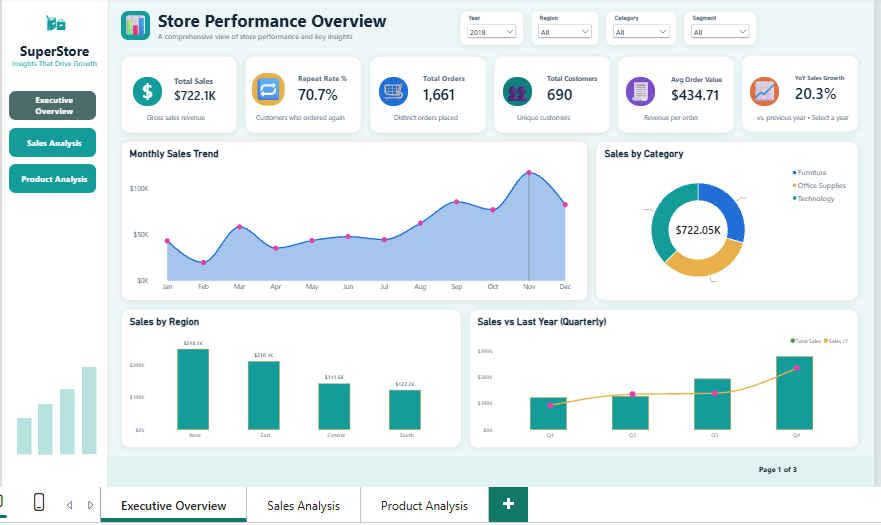

The dashboard page shown, as its layout file describes it:
{"tool":"powerbi","page":{"name":"Executive Overview","canvas":[1920,1080],"ordinal":0},"visuals":[{"type":"textbox","box":[0,0,232,1080],"z":0},{"type":"textbox","box":[80,16,80,80],"z":1000},{"type":"textbox","box":[0,96,232,40],"z":2000},{"type":"textbox","box":[0,134,232,26],"z":3000},{"type":"actionButton","box":[16,208,192,64],"z":4000},{"type":"actionButton","box":[16,288,192,64],"z":5000},{"type":"actionButton","box":[16,368,192,64],"z":6000},{"type":"shape","box":[32,928,32,80],"z":7000},{"type":"shape","box":[80,896,32,112],"z":8000},{"type":"shape","box":[128,864,32,144],"z":9000},{"type":"shape","box":[176,816,32,192],"z":10000},{"type":"textbox","box":[262,30,64,64],"z":11000},{"type":"textbox","box":[344,26,700,50],"z":12000},{"type":"textbox","box":[344,74,700,30],"z":13000},{"type":"slicer","fields":{"Values":["DimDate.Year"]},"box":[1010,30,140,76],"z":14000},{"type":"slicer","fields":{"Values":["DimGeography.Region"]},"box":[1166,30,150,76],"z":15000},{"type":"slicer","fields":{"Values":["DimProducts.Category"]},"box":[1332,30,156,76],"z":16000},{"type":"slicer","fields":{"Values":["DimCustomers.Segment"]},"box":[1504,30,160,76],"z":17000},{"type":"textbox","box":[232,1012,1688,68],"z":18000},{"type":"textbox","box":[262,1030,600,32],"z":19000},{"type":"textbox","box":[1668,1030,220,32],"z":20000},{"type":"cardVisual","fields":{"Data":["_Measures.Total Sales"]},"box":[262,130,256,170],"z":21000},{"type":"textbox","box":[288,176,64,64],"z":22000},{"type":"textbox","box":[320,256,150,28],"z":23000},{"type":"cardVisual","fields":{"Data":["_Measures.Repeat Rate %"]},"box":[536,130,256,170],"z":24000},{"type":"textbox","box":[552,168,72,72],"z":25000},{"type":"textbox","box":[560,256,240,24],"z":26000},{"type":"cardVisual","fields":{"Data":["_Measures.Orders Count(Display)"]},"box":[810,130,256,170],"z":27000},{"type":"textbox","box":[832,176,64,64],"z":28000},{"type":"textbox","box":[864,256,150,28],"z":29000},{"type":"cardVisual","fields":{"Data":["_Measures.Customers Count"]},"box":[1084,130,256,170],"z":30000},{"type":"textbox","box":[1104,176,64,64],"z":31000},{"type":"textbox","box":[1136,256,150,28],"z":32000},{"type":"cardVisual","fields":{"Data":["_Measures.Avg Orders Value"]},"box":[1358,130,256,170],"z":33000},{"type":"textbox","box":[1376,176,64,64],"z":34000},{"type":"textbox","box":[1416,256,150,28],"z":35000},{"type":"cardVisual","fields":{"Data":["_Measures.Sales YoY %"]},"box":[1632,128,256,170],"z":36000},{"type":"textbox","box":[1648,176,64,64],"z":37000},{"type":"textbox","box":[1664,256,224,32],"z":38000},{"type":"areaChart","title":"Monthly Sales Trend","fields":{"Category":["DimDate.Month Name"],"Y":["_Measures.Total Sales"]},"box":[262,318,1030,352],"z":39000},{"type":"donutChart","title":"Sales by Category","fields":{"Category":["DimProducts.Category"],"Y":["_Measures.Total Sales"]},"box":[1309,318,579,352],"z":40000},{"type":"clusteredColumnChart","title":"Sales by Region","fields":{"Category":["DimGeography.Region"],"Y":["_Measures.Total Sales"]},"box":[262,688,750,306],"z":41000},{"type":"lineClusteredColumnComboChart","title":"Sales vs Last Year (Quarterly)","fields":{"Category":["DimDate.Quarter"],"Y":["_Measures.Total Sales"],"Y2":["_Measures.Sales LY"]},"box":[1029,688,859,306],"z":42000}]}

Visuals, with their boxes on the page's 1920x1080 design canvas (x1, y1, x2, y2). These are canvas units, not pixel positions in the 881x525 screenshot, which may show the page scaled, cropped or inside an application window:
textbox: [0, 0, 232, 1080]
textbox: [80, 16, 160, 96]
textbox: [0, 96, 232, 136]
textbox: [0, 134, 232, 160]
actionButton: [16, 208, 208, 272]
actionButton: [16, 288, 208, 352]
actionButton: [16, 368, 208, 432]
shape: [32, 928, 64, 1008]
shape: [80, 896, 112, 1008]
shape: [128, 864, 160, 1008]
shape: [176, 816, 208, 1008]
textbox: [262, 30, 326, 94]
textbox: [344, 26, 1044, 76]
textbox: [344, 74, 1044, 104]
slicer - DimDate.Year: [1010, 30, 1150, 106]
slicer - DimGeography.Region: [1166, 30, 1316, 106]
slicer - DimProducts.Category: [1332, 30, 1488, 106]
slicer - DimCustomers.Segment: [1504, 30, 1664, 106]
textbox: [232, 1012, 1920, 1080]
textbox: [262, 1030, 862, 1062]
textbox: [1668, 1030, 1888, 1062]
cardVisual - _Measures.Total Sales: [262, 130, 518, 300]
textbox: [288, 176, 352, 240]
textbox: [320, 256, 470, 284]
cardVisual - _Measures.Repeat Rate %: [536, 130, 792, 300]
textbox: [552, 168, 624, 240]
textbox: [560, 256, 800, 280]
cardVisual - _Measures.Orders Count(Display): [810, 130, 1066, 300]
textbox: [832, 176, 896, 240]
textbox: [864, 256, 1014, 284]
cardVisual - _Measures.Customers Count: [1084, 130, 1340, 300]
textbox: [1104, 176, 1168, 240]
textbox: [1136, 256, 1286, 284]
cardVisual - _Measures.Avg Orders Value: [1358, 130, 1614, 300]
textbox: [1376, 176, 1440, 240]
textbox: [1416, 256, 1566, 284]
cardVisual - _Measures.Sales YoY %: [1632, 128, 1888, 298]
textbox: [1648, 176, 1712, 240]
textbox: [1664, 256, 1888, 288]
"Monthly Sales Trend" areaChart: [262, 318, 1292, 670]
"Sales by Category" donutChart: [1309, 318, 1888, 670]
"Sales by Region" clusteredColumnChart: [262, 688, 1012, 994]
"Sales vs Last Year (Quarterly)" lineClusteredColumnComboChart: [1029, 688, 1888, 994]
